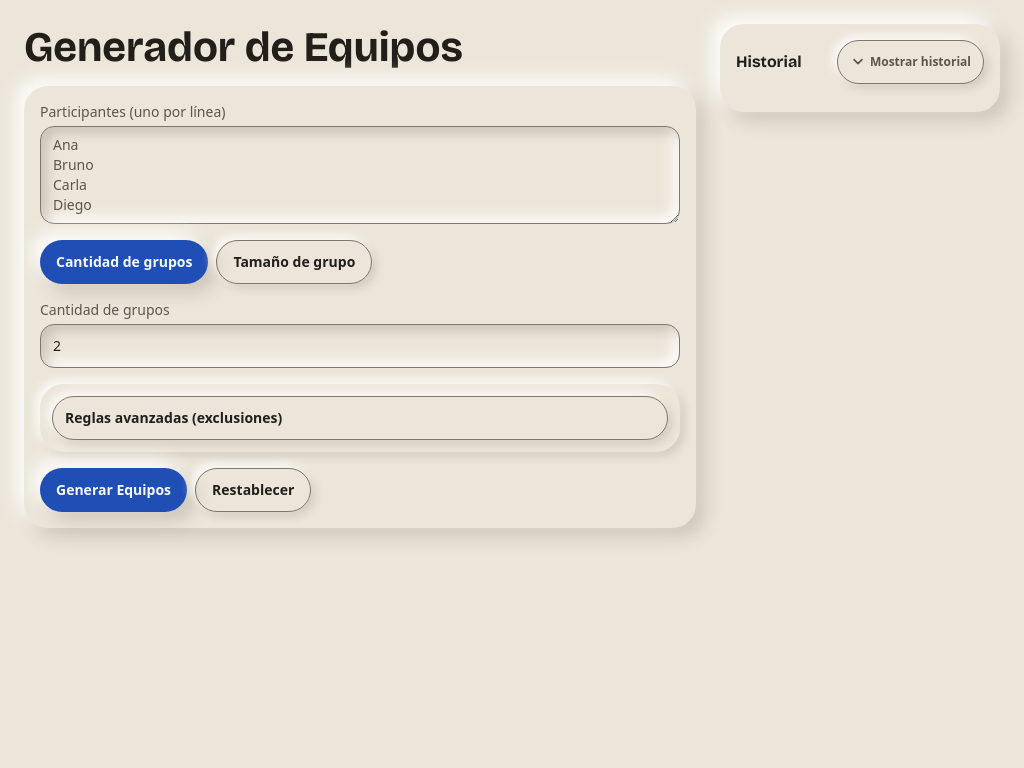
Test: TeamsPage — generación y errores › muestra un error si hay menos de 2 participantes
Type "Ana" into the text box labelled "Participantes (uno por línea)". click: (360, 175)
box: [40,126,680,224]
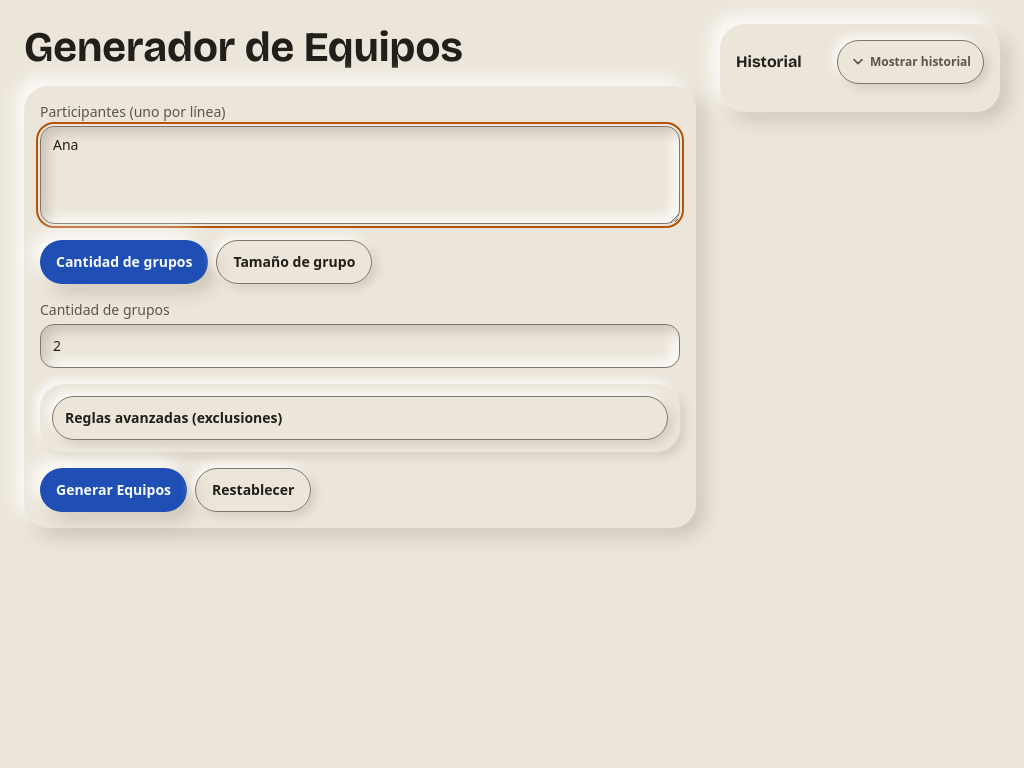
Click the button "Generar Equipos". click: click(114, 490)
box: [40,468,187,512]
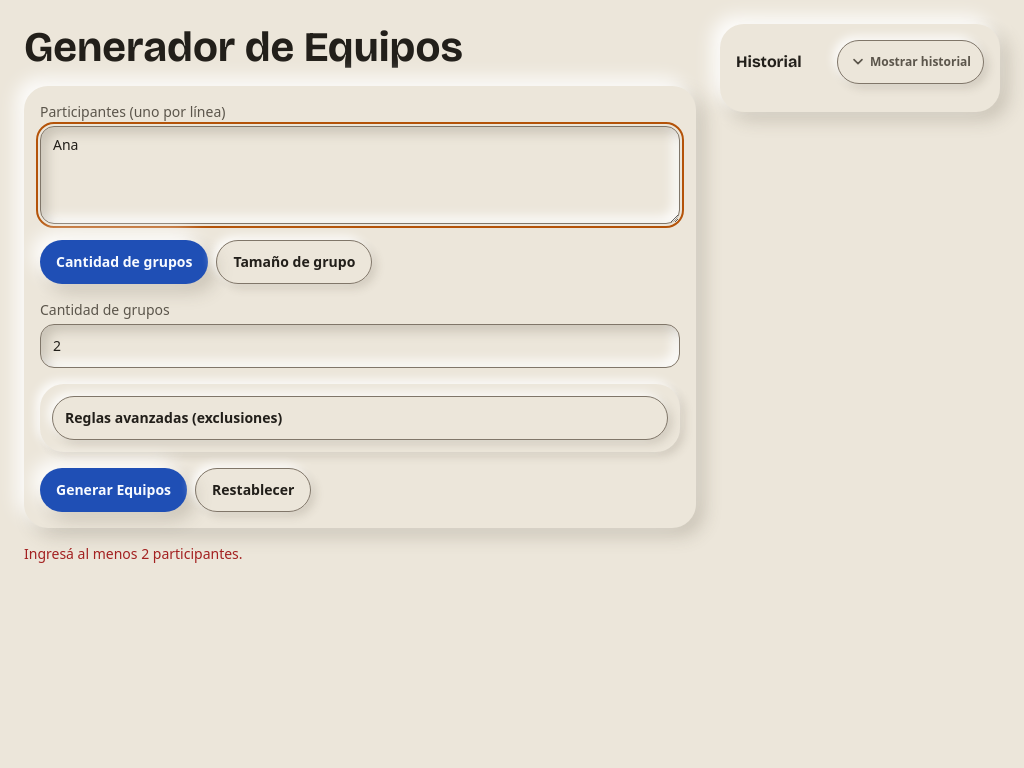
Expected: the message shows "al menos 2 participantes", [24,544,243,563]
